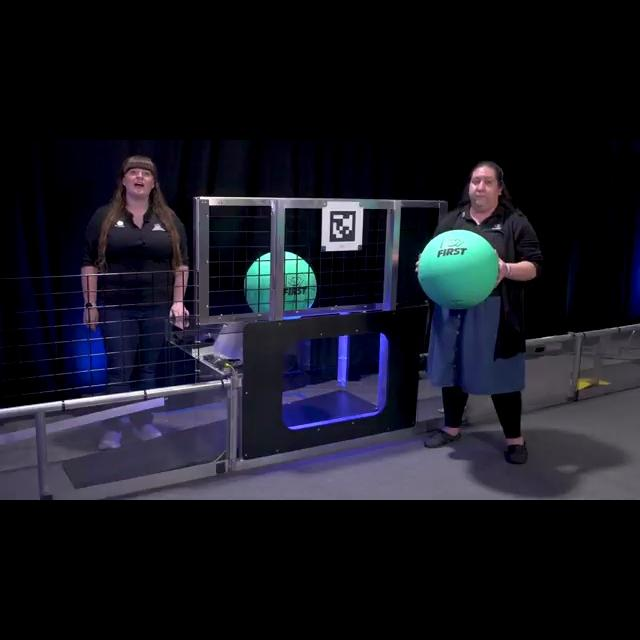ALGAE: (416, 228, 499, 308), (244, 251, 316, 317)
